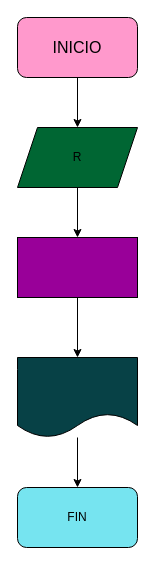
This 155x565 diagram has some shape labels left out. The shapes that lost their labels are listed below. From the top down, each one's centre as x and y in pixels, then its label:
At pixel 77 267: "A: P|*R2 P : 2P|*R".
At pixel 77 397: "A*P".
